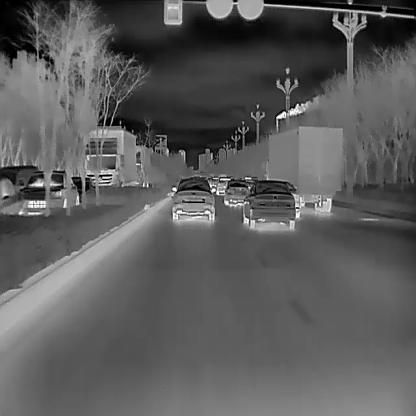car: (262, 125, 341, 211), (81, 125, 134, 189), (243, 181, 296, 230), (21, 171, 78, 214), (170, 177, 215, 220), (2, 166, 39, 215), (131, 143, 150, 186), (68, 173, 94, 203), (224, 179, 247, 204)
